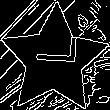L_W: (29, 43, 79, 77)
